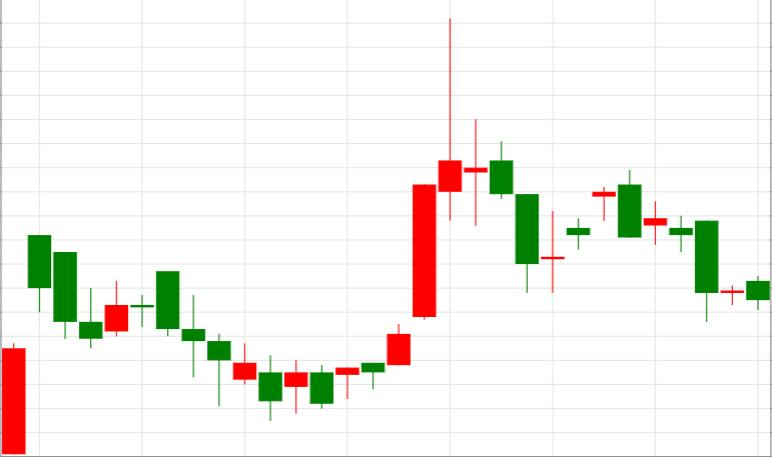shooting_star_fall: (284, 19, 461, 413)
